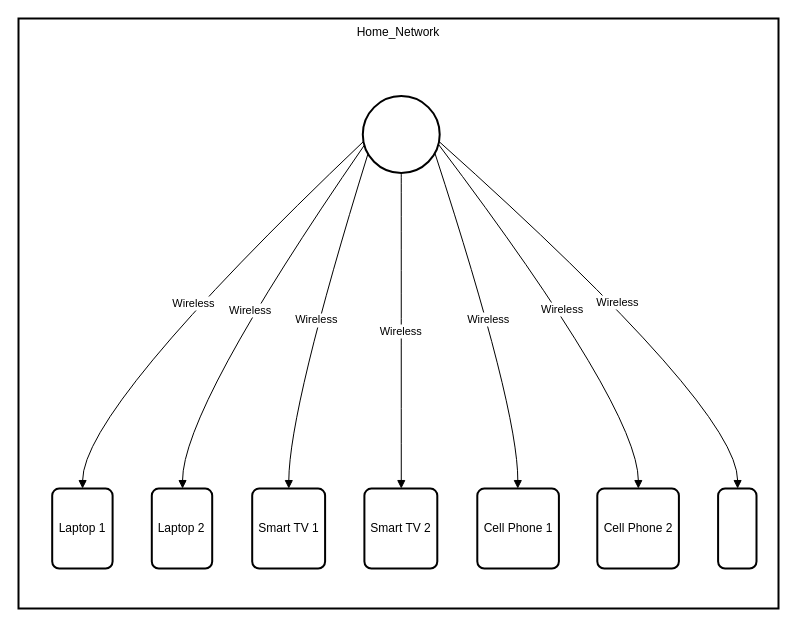
The diagram is 796 pixels wide and 626 high, and some of its shapes have lost their labels. Each missing label, with the centre of its shape:
"WiFi Router" belongs at (x=400, y=134).
"Xbox" belongs at (x=737, y=528).
